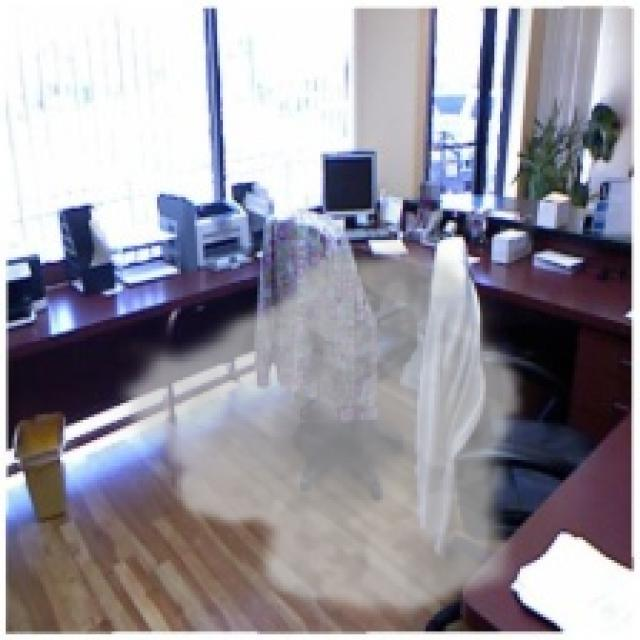smoke: (114, 231, 529, 623)
